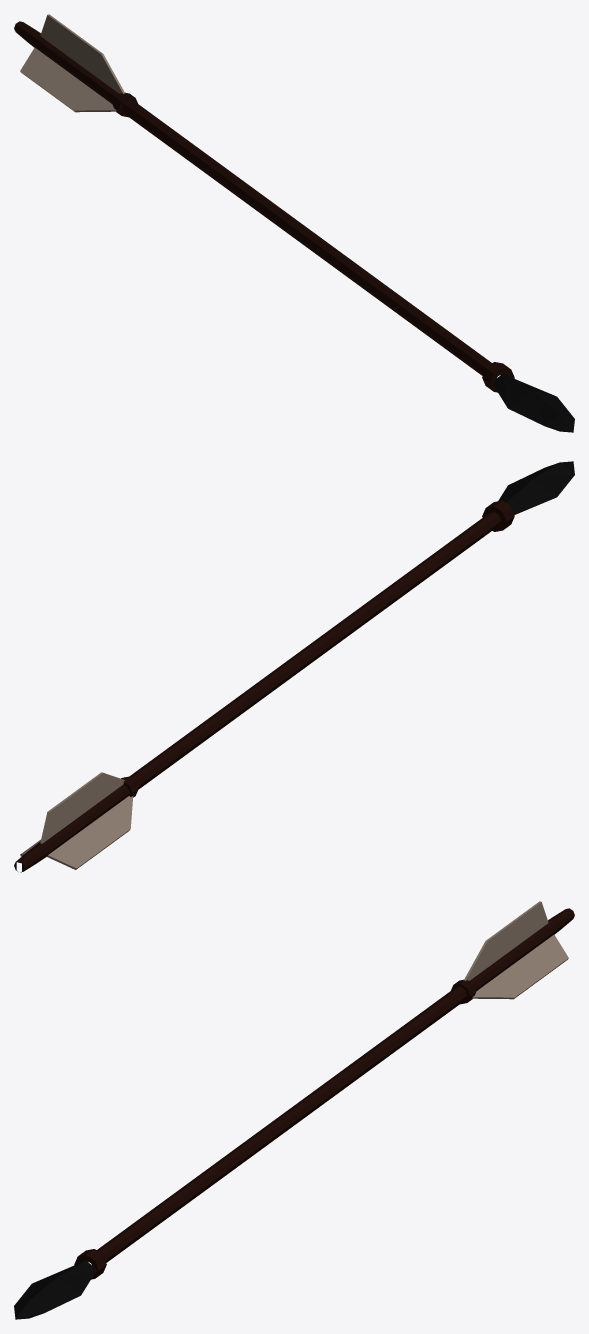
The model's file is outrider_arrow.gltf.
3 views of the same model, one above another, from view 1: azimuth 30°, elevation 25°; view 2: azimuth 150°, elevation 25°; view 3: azimuth 330°, elevation 25° (orthographic).
Parts seen in each view (by area): view 1: OutriderArrow; view 2: OutriderArrow; view 3: OutriderArrow.
Part boxes in pixels (<box>): OutriderArrow: <box>14,14,574,432</box>; OutriderArrow: <box>14,461,574,872</box>; OutriderArrow: <box>14,901,574,1319</box>.
Bounding box in the file's own units: 0.0443 × 0.0384 × 0.75.
Materials: 1 (1 with a texture image).
